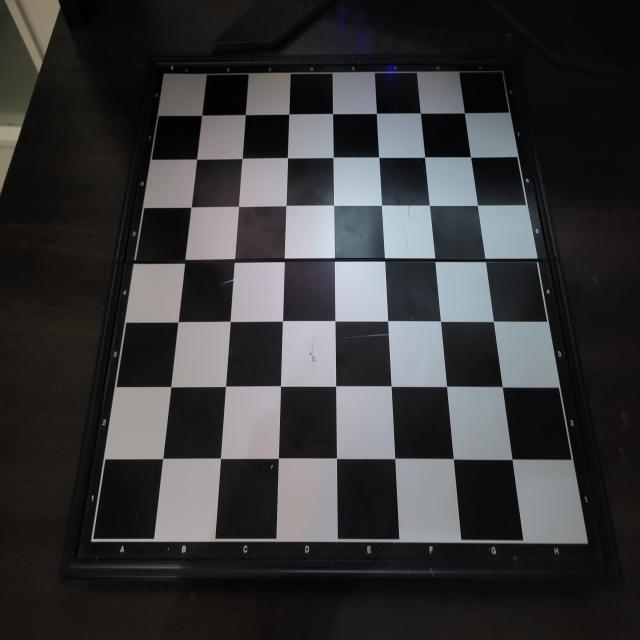chess-board: (73, 40, 610, 582)
